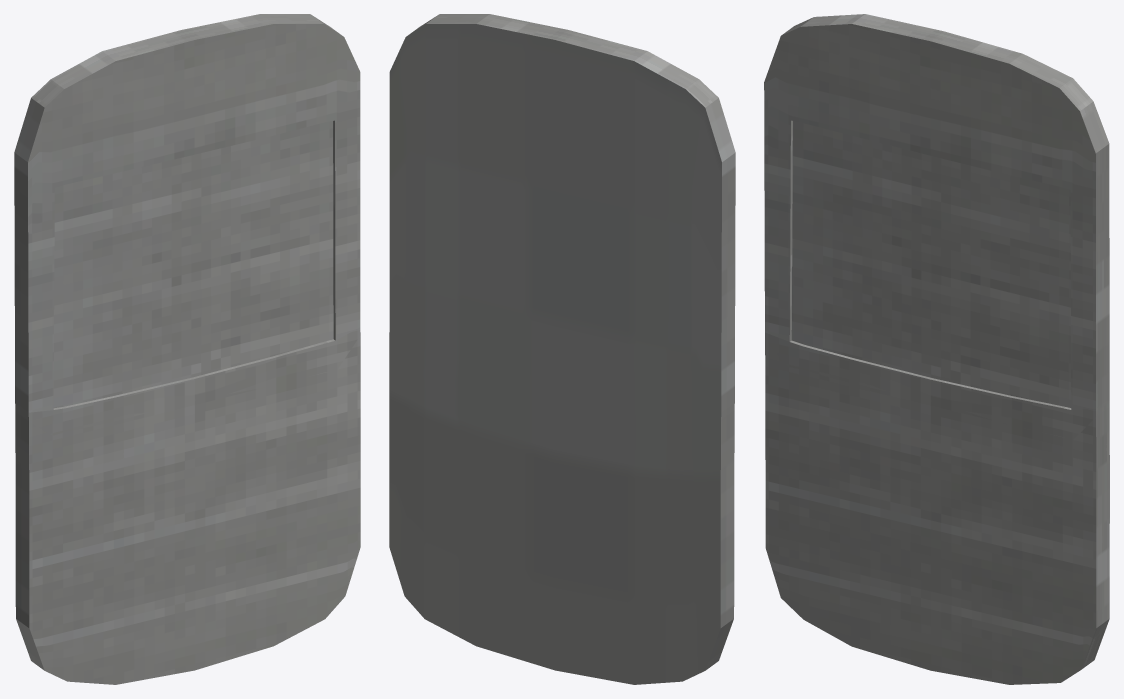
Rendered from Phone + animation.fbx.
3 renders of one model, left to right at view 1: azimuth 30°, elevation 25°; view 2: azimuth 150°, elevation 25°; view 3: azimuth 330°, elevation 25°, orthographic.
Parts seen in each view (by area): view 1: Phone ring; view 2: Phone ring; view 3: Phone ring.
Part boxes in pixels (x1,y1,x2,y2): Phone ring: (14, 14, 360, 684); Phone ring: (389, 14, 735, 684); Phone ring: (764, 14, 1109, 684).
Bounding box in the file's own units: 1.5 × 2.71 × 0.1061.
